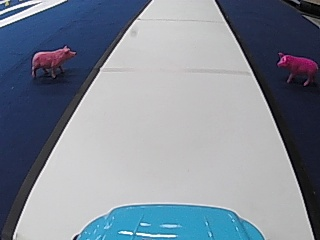pig: (27, 43, 76, 78), (274, 49, 318, 85)
